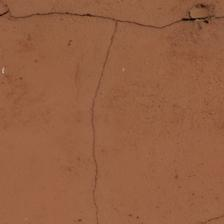Crack: (0, 209, 138, 224), (5, 103, 117, 121)
